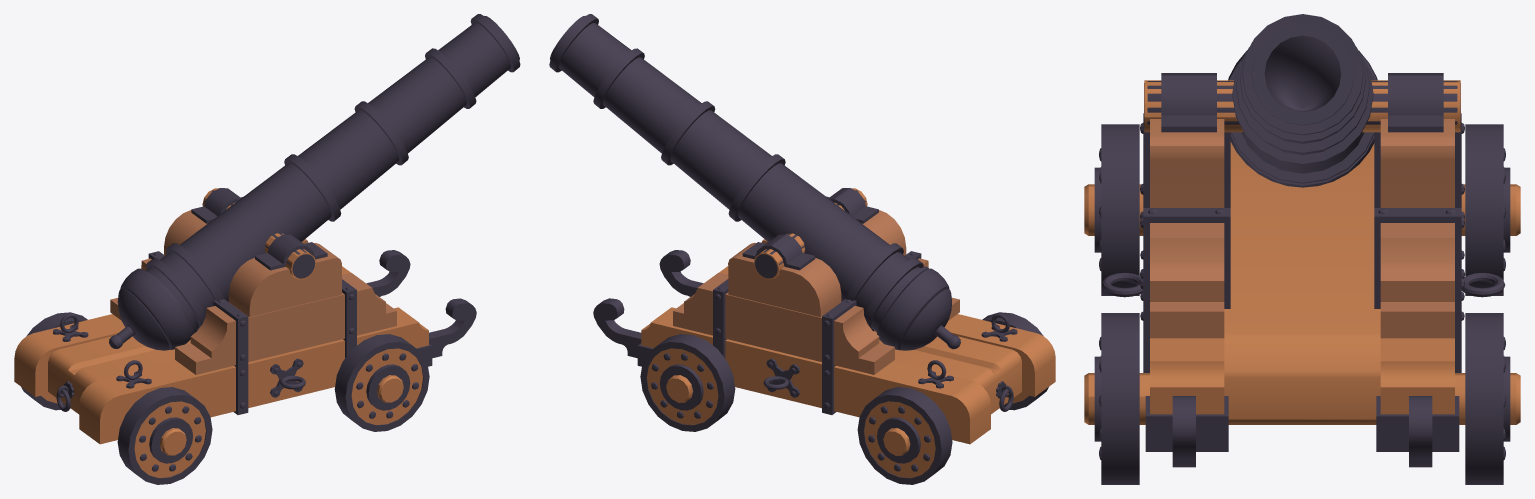
File: Cannon.fbx
3 views of the same model, side by side, from view 1: azimuth 30°, elevation 25°; view 2: azimuth 150°, elevation 25°; view 3: azimuth 270°, elevation 25° (orthographic). The views are drawn at different scales.
Visible parts, largest first — view 1: f_cannon_f_type1.020, f_cannon_f_type1.007; view 2: f_cannon_f_type1.020, f_cannon_f_type1.007; view 3: f_cannon_f_type1.020, f_cannon_f_type1.007.
Part boxes in pixels (x1,y1,x2,y2): f_cannon_f_type1.020: (14, 188, 476, 484); f_cannon_f_type1.007: (109, 14, 520, 350); f_cannon_f_type1.020: (593, 188, 1055, 484); f_cannon_f_type1.007: (549, 14, 960, 350); f_cannon_f_type1.020: (1084, 73, 1520, 484); f_cannon_f_type1.007: (1228, 14, 1377, 187).
Size of the model in its own units: 299 by 210 by 139.
